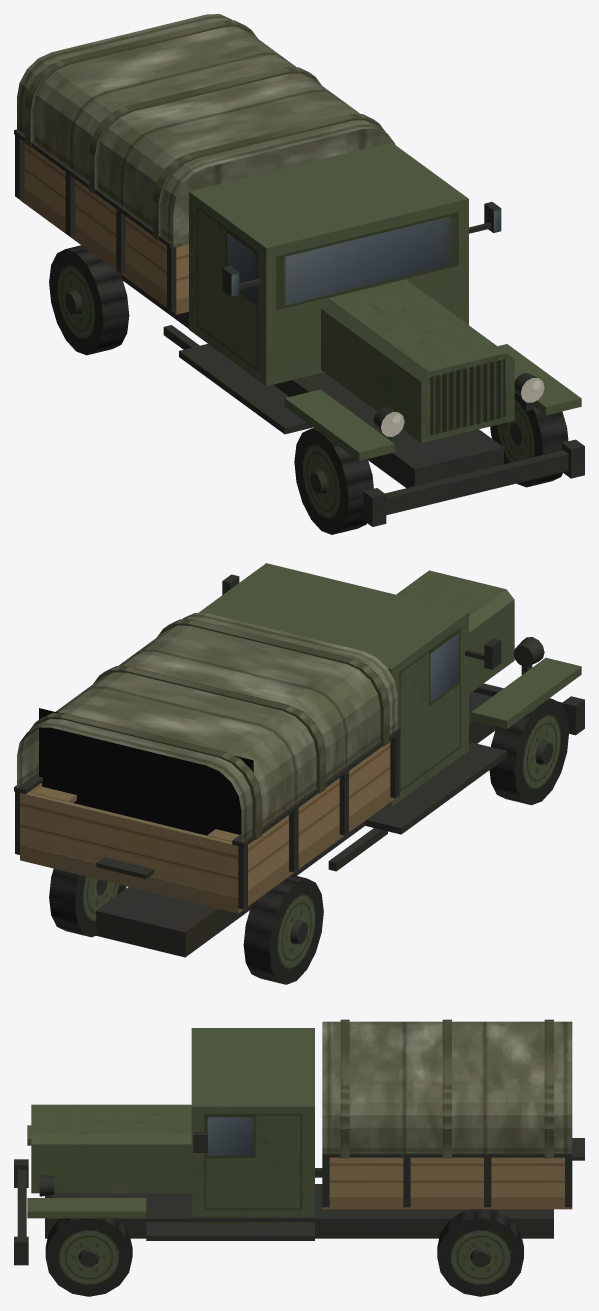
File: landTransport.glb
3 views of the same model, one above another, from view 1: azimuth 30°, elevation 25°; view 2: azimuth 150°, elevation 25°; view 3: azimuth 270°, elevation 25° (orthographic). The views are drawn at different scales.
Parts seen in each view (by area): view 1: body, tarp, roue_right_2, roue_right_1, roue_left_1; view 2: body, tarp, fond_sombre, tailgate, roue_right_2, roue_right_1, roue_left_2; view 3: body, tarp, roue_left_2, roue_left_1.
Boxes of the visible parts, left/top/right/bottom form: body: left=14, top=129, right=584, bottom=526; tarp: left=17, top=14, right=395, bottom=247; roue_right_2: left=49, top=245, right=129, bottom=355; roue_right_1: left=294, top=428, right=373, bottom=534; roue_left_1: left=490, top=393, right=568, bottom=487; body: left=14, top=563, right=584, bottom=957; tarp: left=17, top=613, right=397, bottom=842; fond_sombre: left=39, top=708, right=253, bottom=835; tailgate: left=20, top=792, right=237, bottom=896; roue_right_2: left=243, top=874, right=323, bottom=984; roue_right_1: left=489, top=698, right=568, bottom=805; roue_left_2: left=49, top=868, right=126, bottom=937; body: left=14, top=1028, right=572, bottom=1265; tarp: left=322, top=1019, right=572, bottom=1158; roue_left_2: left=437, top=1209, right=523, bottom=1296; roue_left_1: left=45, top=1218, right=132, bottom=1296.
Bounding box in the file's own units: 2.72 × 2.41 × 6.24.
Materials: 8 (7 with a texture image).
